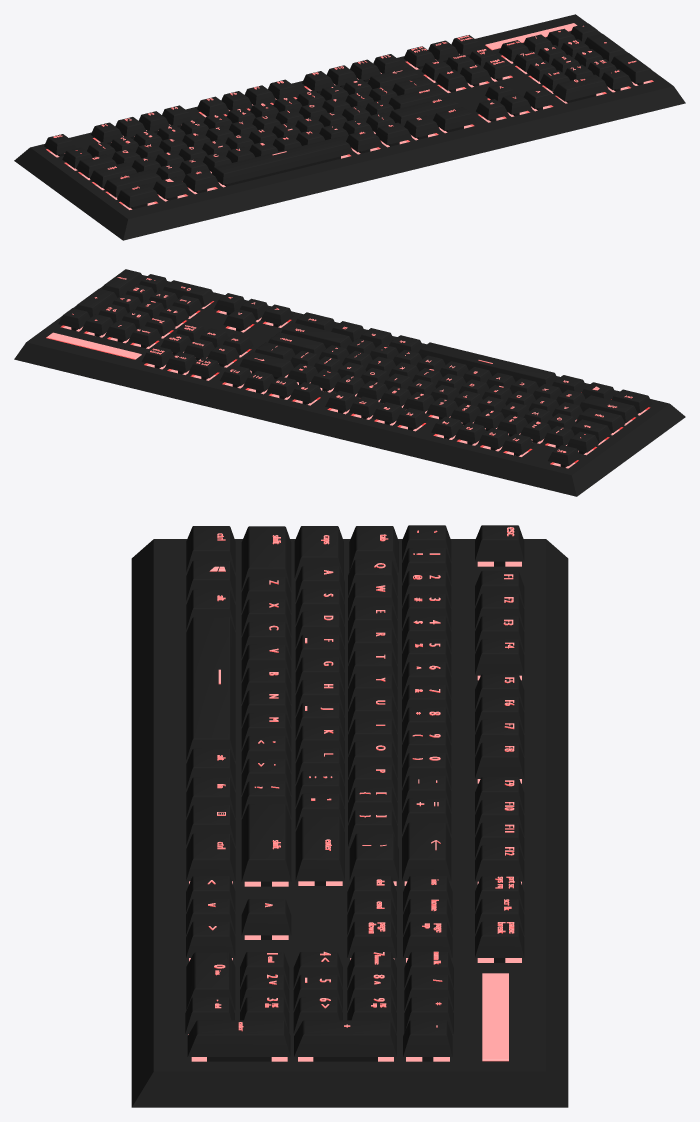
File: keyboard.glb
The picture shows the model from 3 angles, top to bottom: view 1: azimuth 30°, elevation 25°; view 2: azimuth 150°, elevation 25°; view 3: azimuth 270°, elevation 25°; orthographic projection. The views are drawn at different scales.
Parts seen in each view (by area): view 1: keys.002, keyboard.001, text.001, under_key_light, Plane; view 2: keys.002, keyboard.001, under_key_light, text.001, Plane; view 3: keys.002, keyboard.001, text.001, Plane, under_key_light.
Part boxes in pixels (x1,y1,x2,y2): keys.002: [44, 23, 656, 209]; keyboard.001: [14, 14, 685, 240]; text.001: [53, 25, 636, 189]; under_key_light: [46, 54, 653, 209]; Plane: [485, 23, 577, 50]; keys.002: [58, 269, 652, 467]; keyboard.001: [14, 275, 685, 496]; under_key_light: [60, 301, 650, 468]; text.001: [72, 277, 632, 452]; Plane: [46, 332, 141, 359]; keys.002: [185, 525, 524, 1061]; keyboard.001: [131, 539, 568, 1107]; text.001: [207, 527, 514, 1031]; Plane: [482, 973, 508, 1061]; under_key_light: [188, 561, 521, 1061].
Size of the model in its own units: 0.4877 by 0.0231 by 0.1637.
